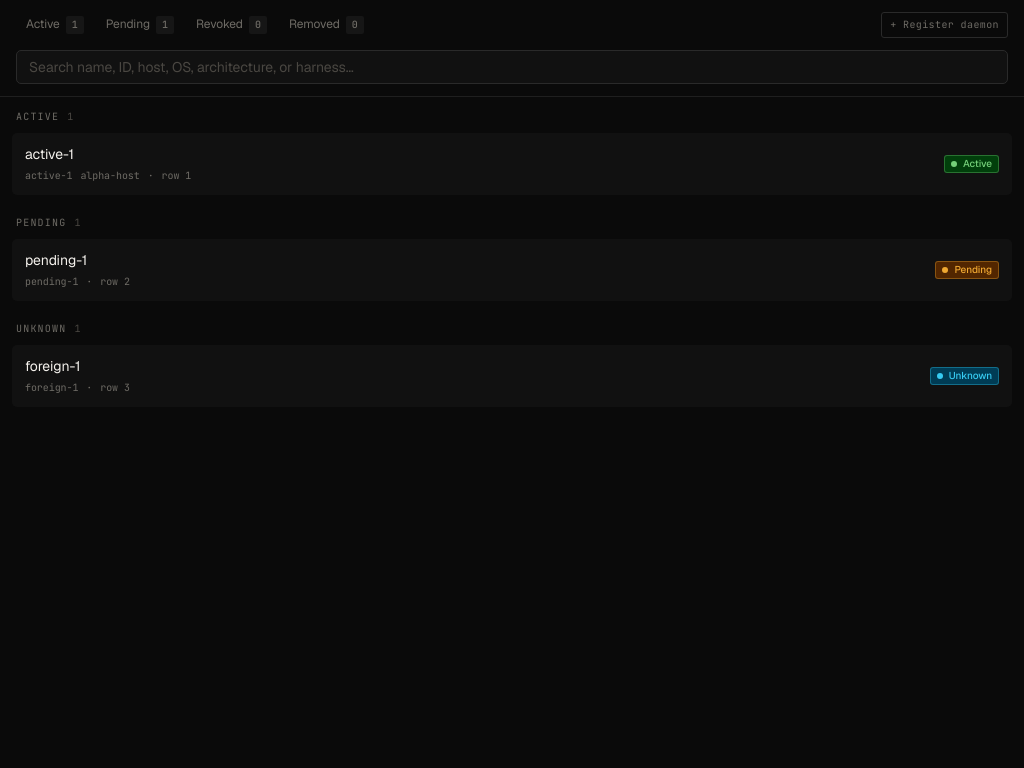
DaemonsPage › uses the current fleet lifecycle state when detail data is stale
Click the button with test id "daemon-row-active-1" at x=49, y=154, box [12,133,1012,195]
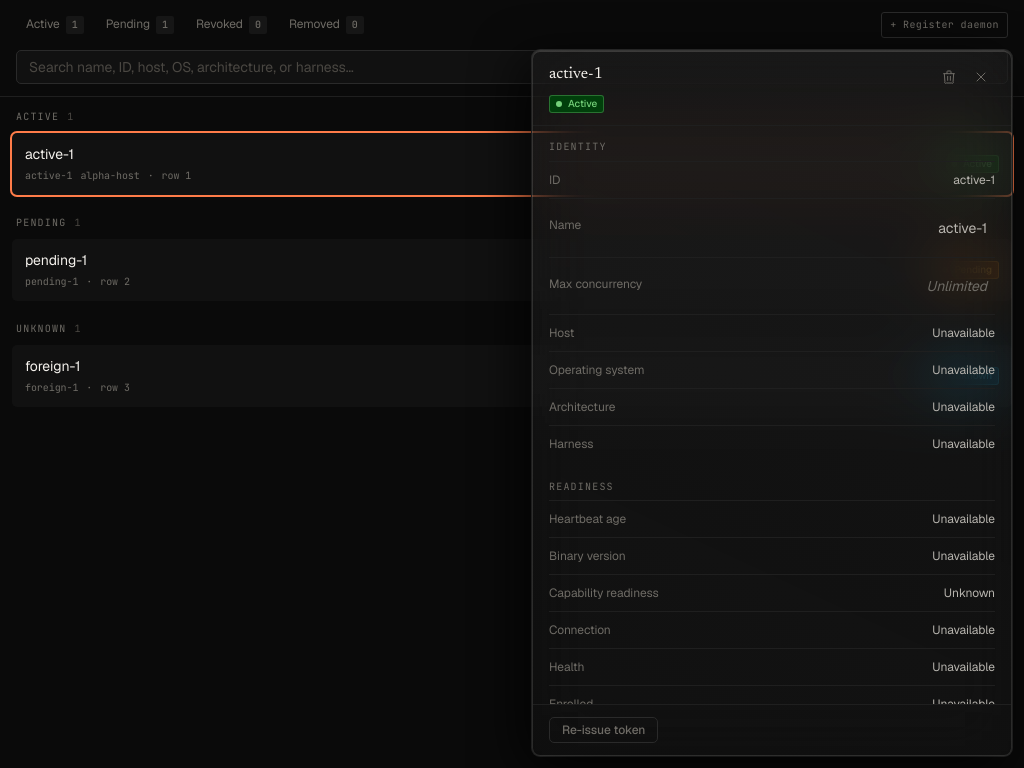
Now the element with test id "daemon-inspector-status" reads "Active", box [568,97,597,110]
